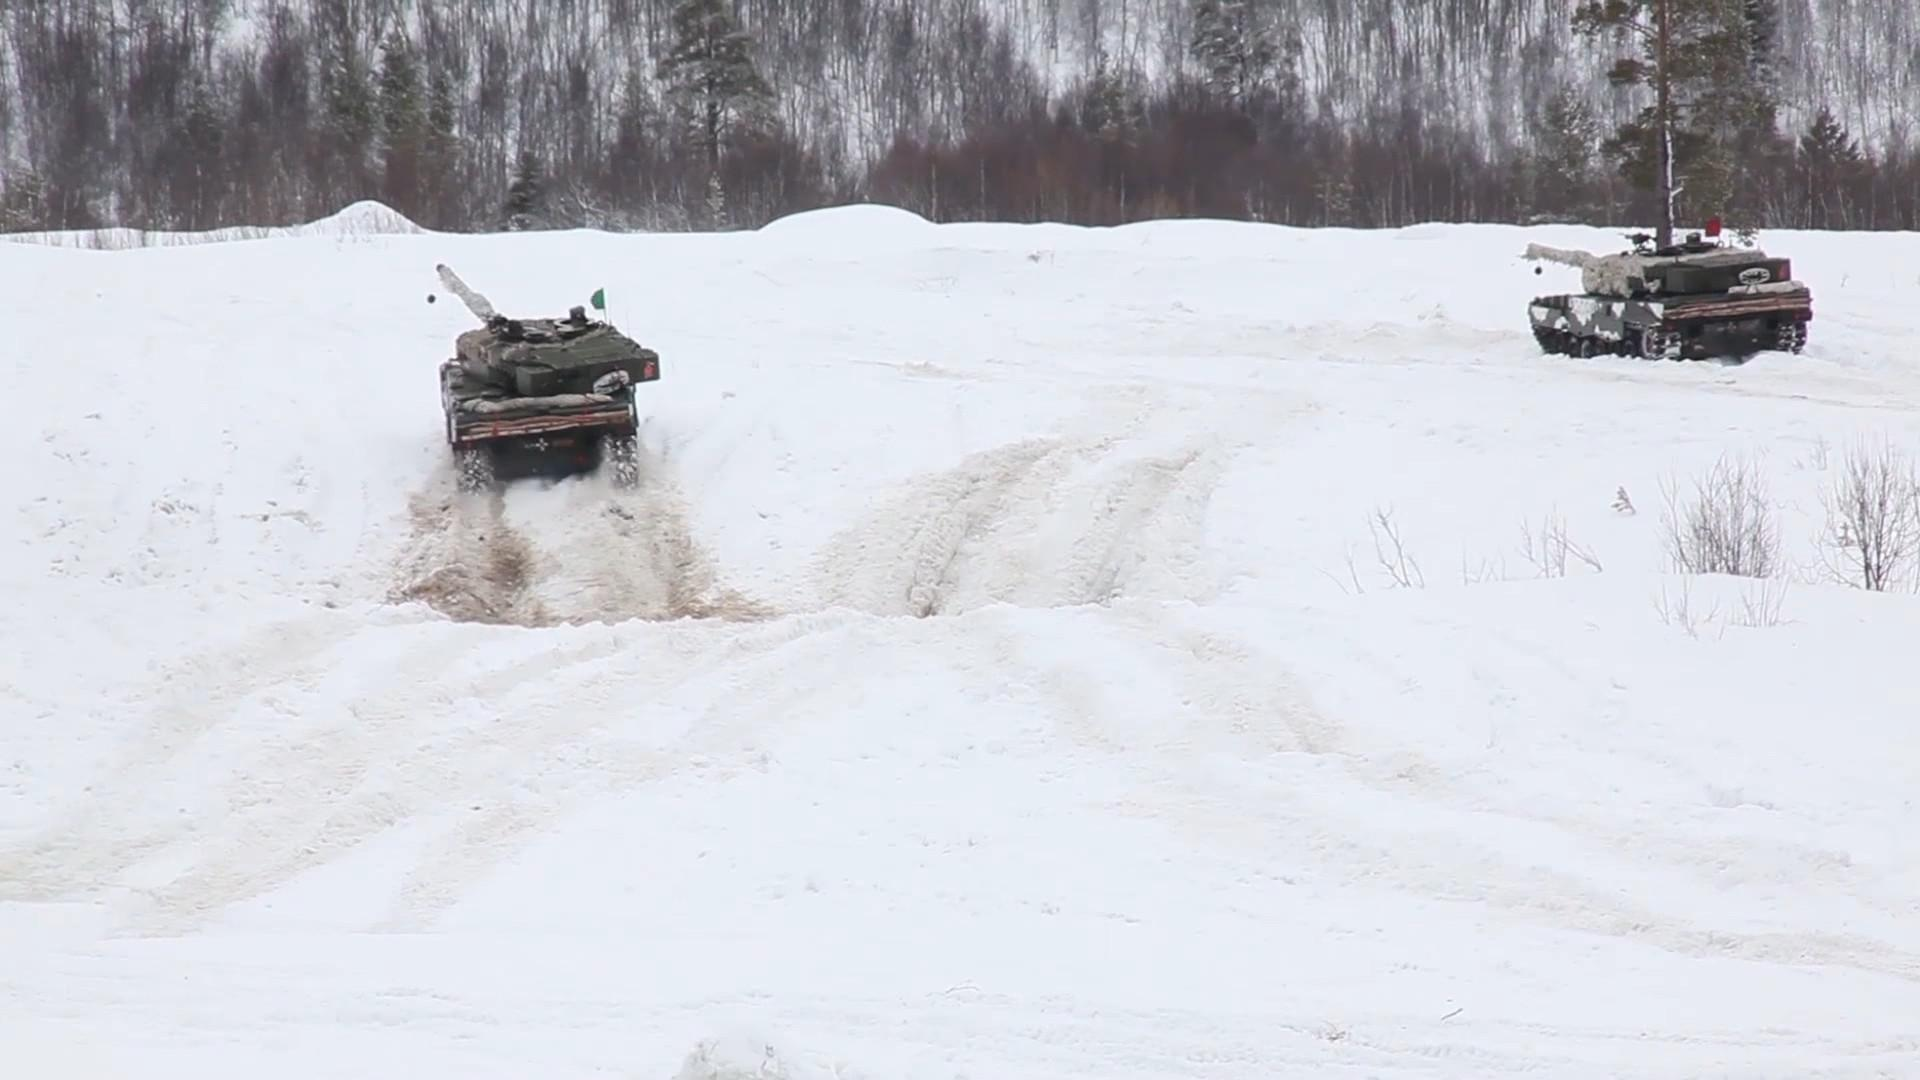tank: (433, 262, 659, 492), (1523, 233, 1813, 364)
